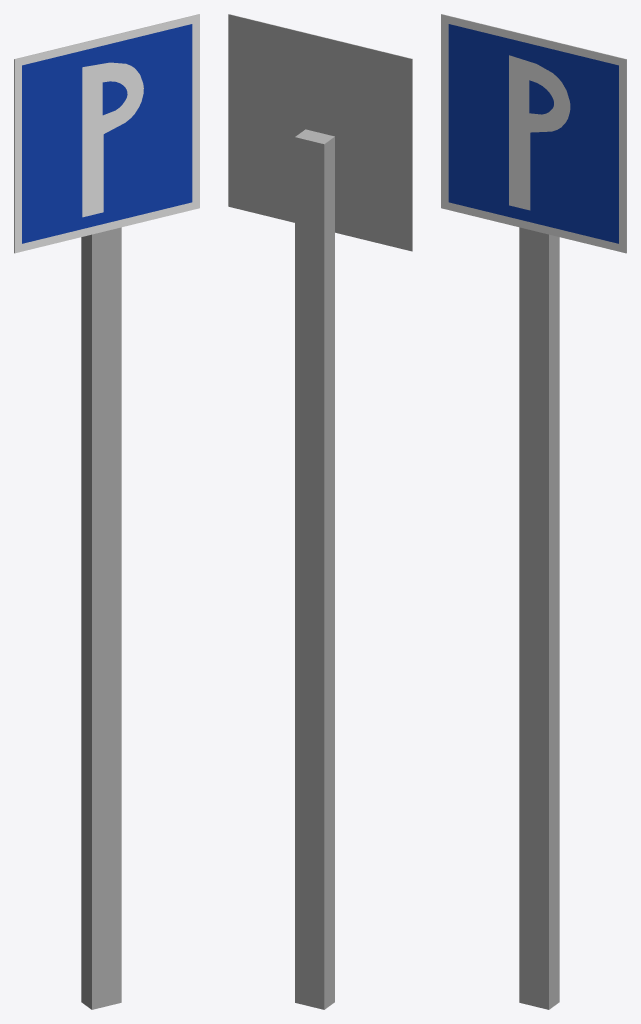
File: park.DAE
3 renders of one model, left to right at view 1: azimuth 30°, elevation 25°; view 2: azimuth 150°, elevation 25°; view 3: azimuth 330°, elevation 25°, orthographic.
Parts seen in each view (by area): view 1: parkFBXASC032yeri; view 2: parkFBXASC032yeri; view 3: parkFBXASC032yeri.
Part boxes in pixels (box(x1,y1,x2,y2)): parkFBXASC032yeri: box(14, 14, 199, 1009); parkFBXASC032yeri: box(228, 14, 412, 1009); parkFBXASC032yeri: box(441, 14, 626, 1009).
Size of the model in its own units: 19.69 by 98.43 by 2.05.
